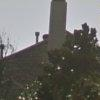Chimney: (45, 0, 73, 48)
